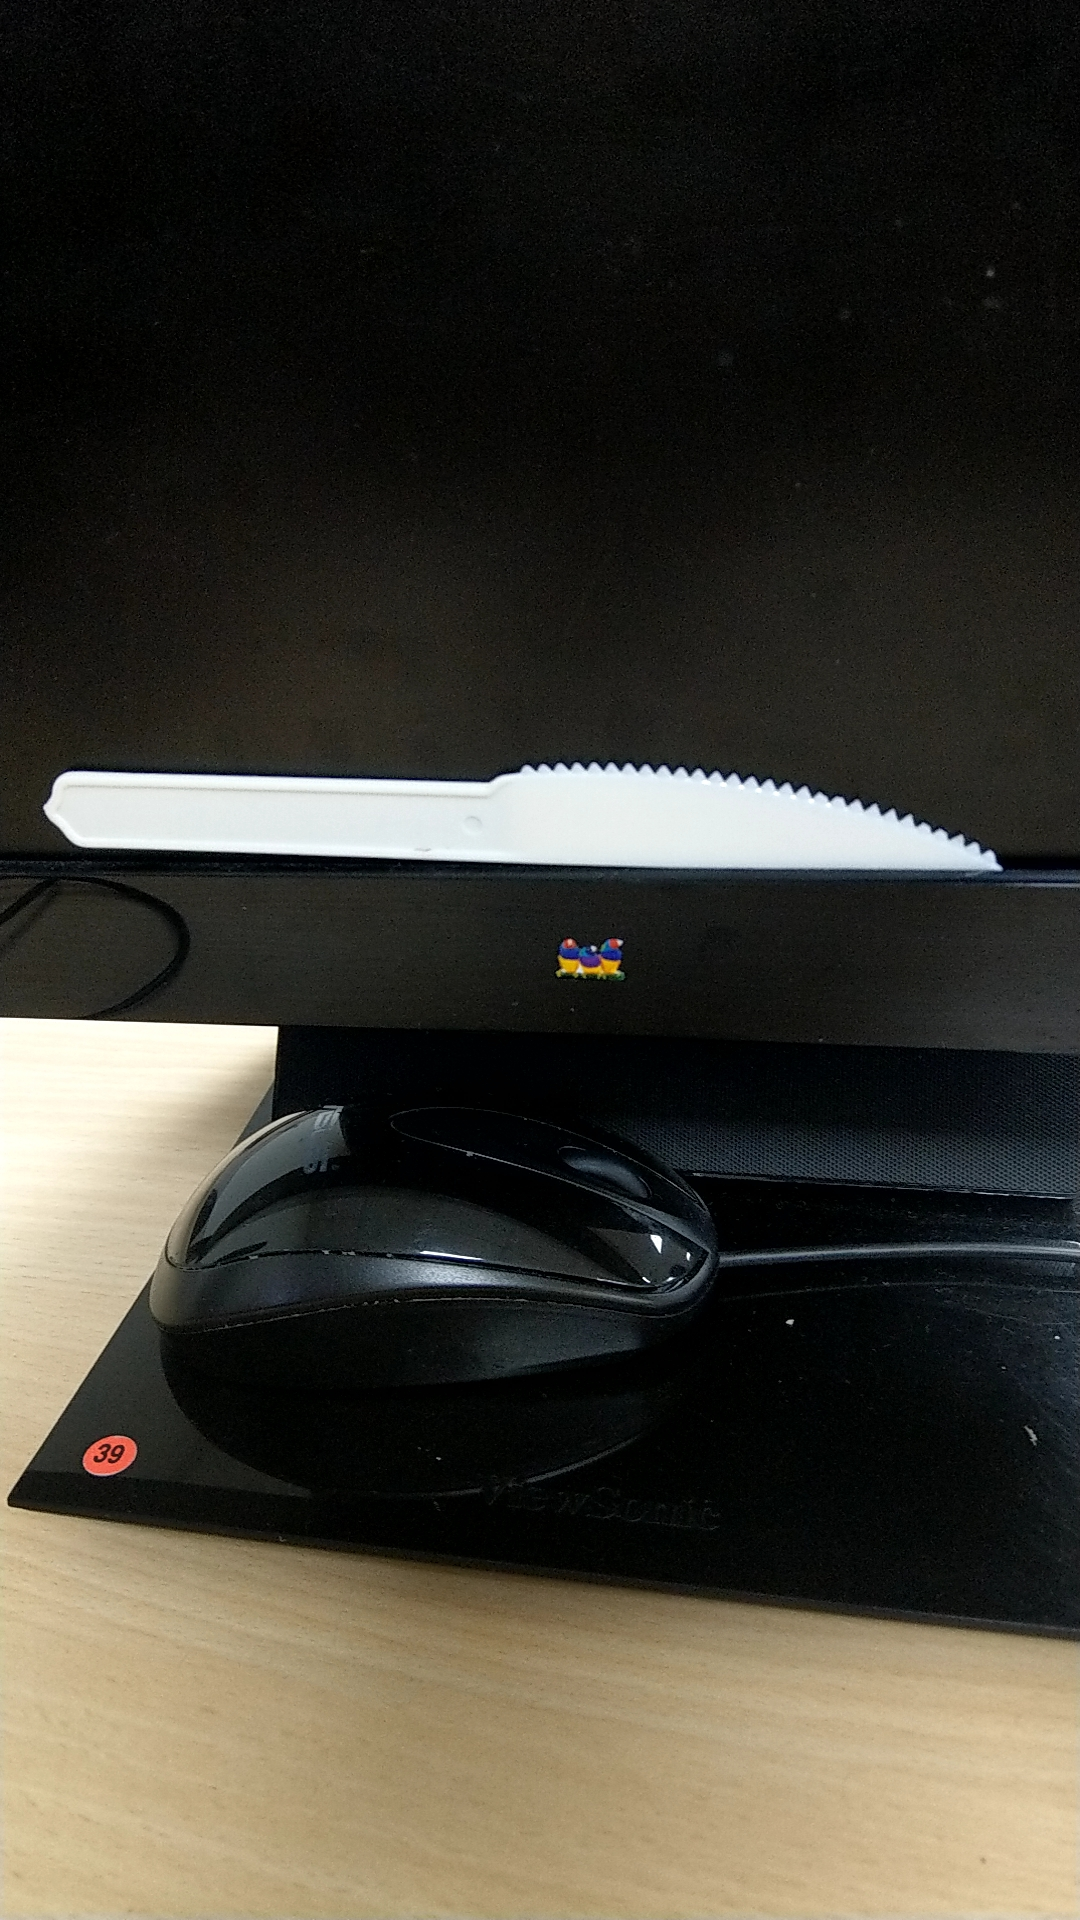knife: (30, 750, 1023, 899)
